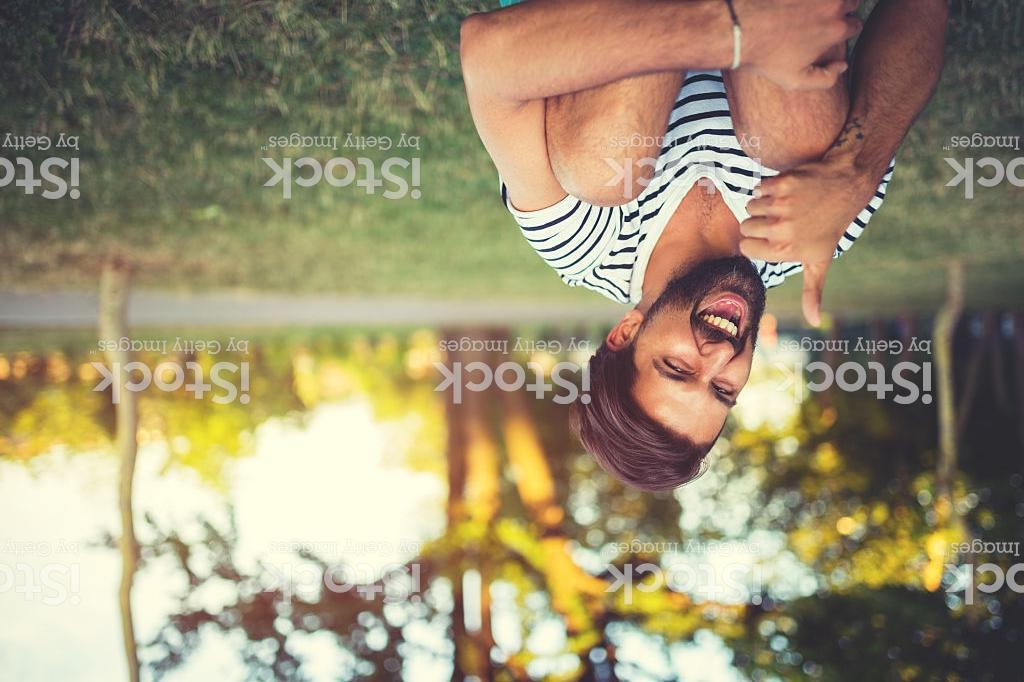thumbsdown: (737, 170, 830, 330)
